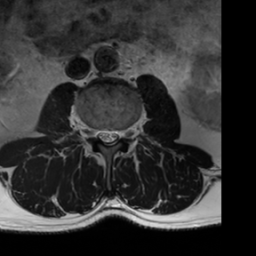CCS_stenosis: (104, 123, 111, 151)
LFS_normal: (120, 121, 128, 146)
LLS_normal: (111, 123, 120, 149)
RFS_normal: (88, 118, 96, 145)
RLS_normal: (96, 122, 104, 147)
